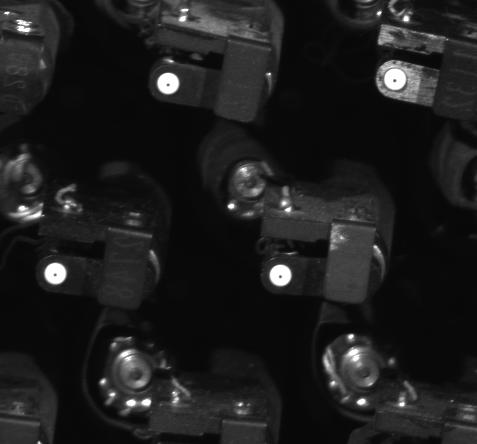fiber: (261, 258, 298, 292), (377, 62, 411, 95), (38, 258, 74, 289), (152, 70, 185, 100)
